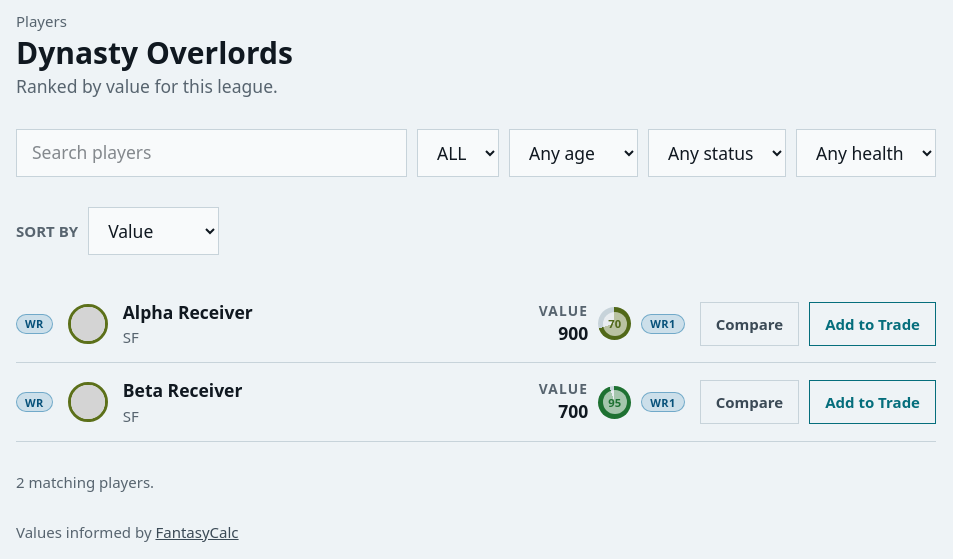
Test: PlayersContent › Madden-style stat sort › switches to percentile mode and re-sorts/re-displays by the stat's position-group percentile
Select "Rec Yards" in the dropdown next to "Sort by" at (154, 231), box [88,207,219,255]
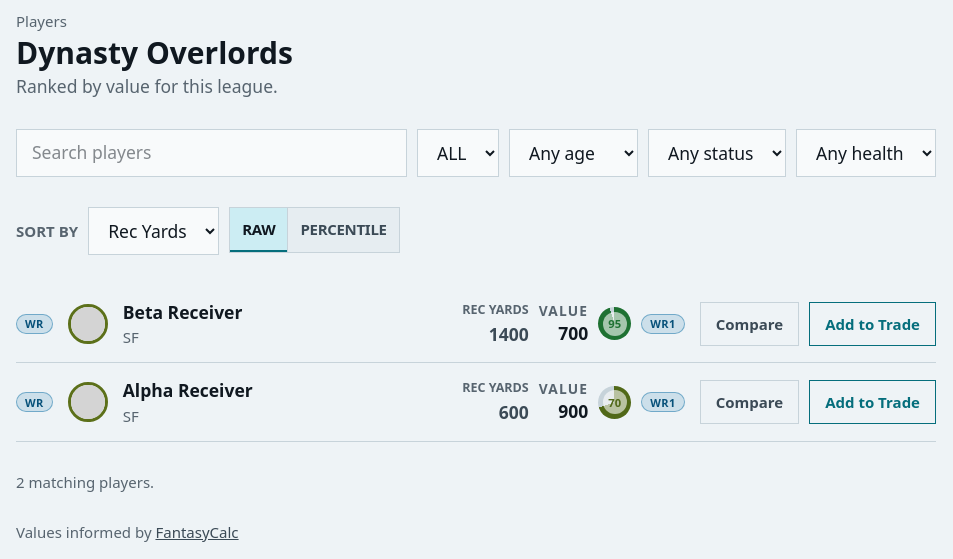
Click the tab "Percentile" at (343, 230), box [287,208,399,252]
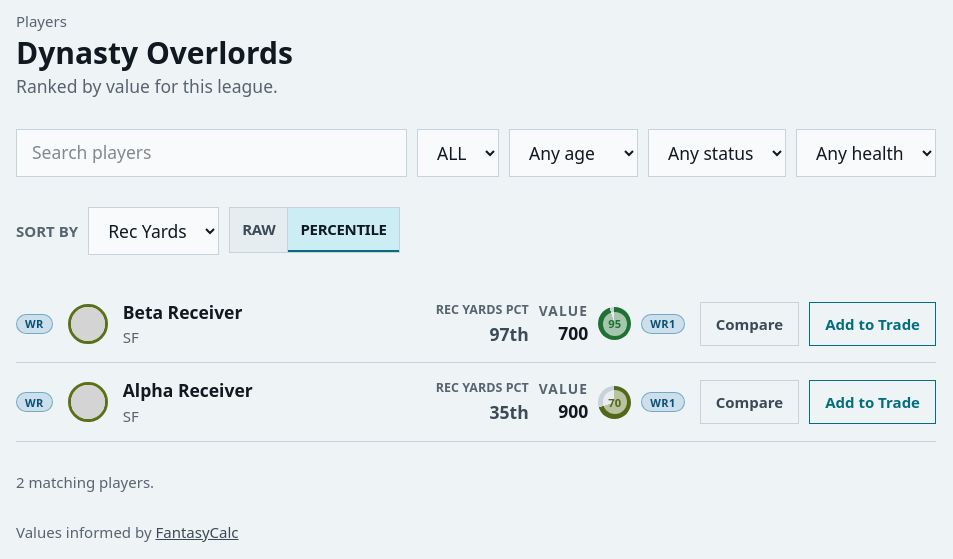
Check: the text "97th" is shown, box [490,322,529,346]
Check: the text "35th" is shown, box [490,400,529,425]
